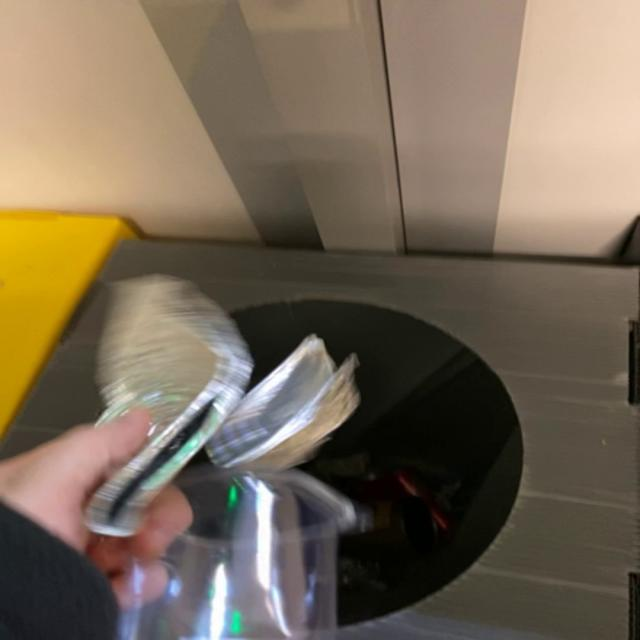bin: (1, 240, 639, 640)
metal: (85, 274, 359, 537)
